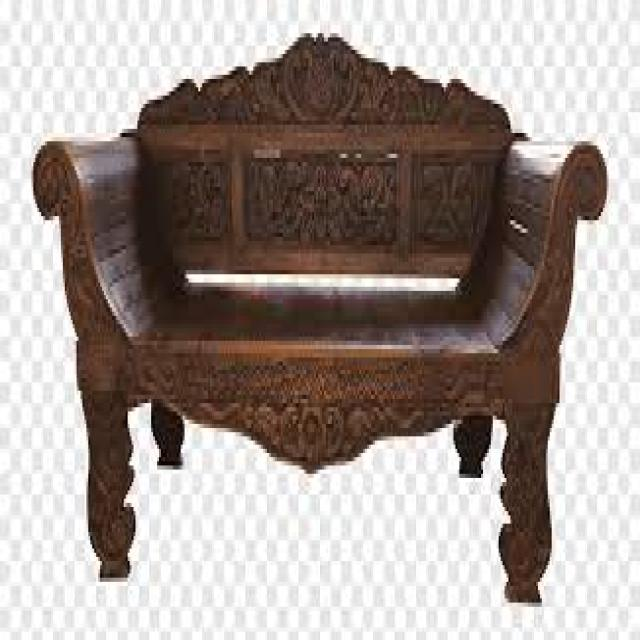chair: (31, 42, 606, 604)
